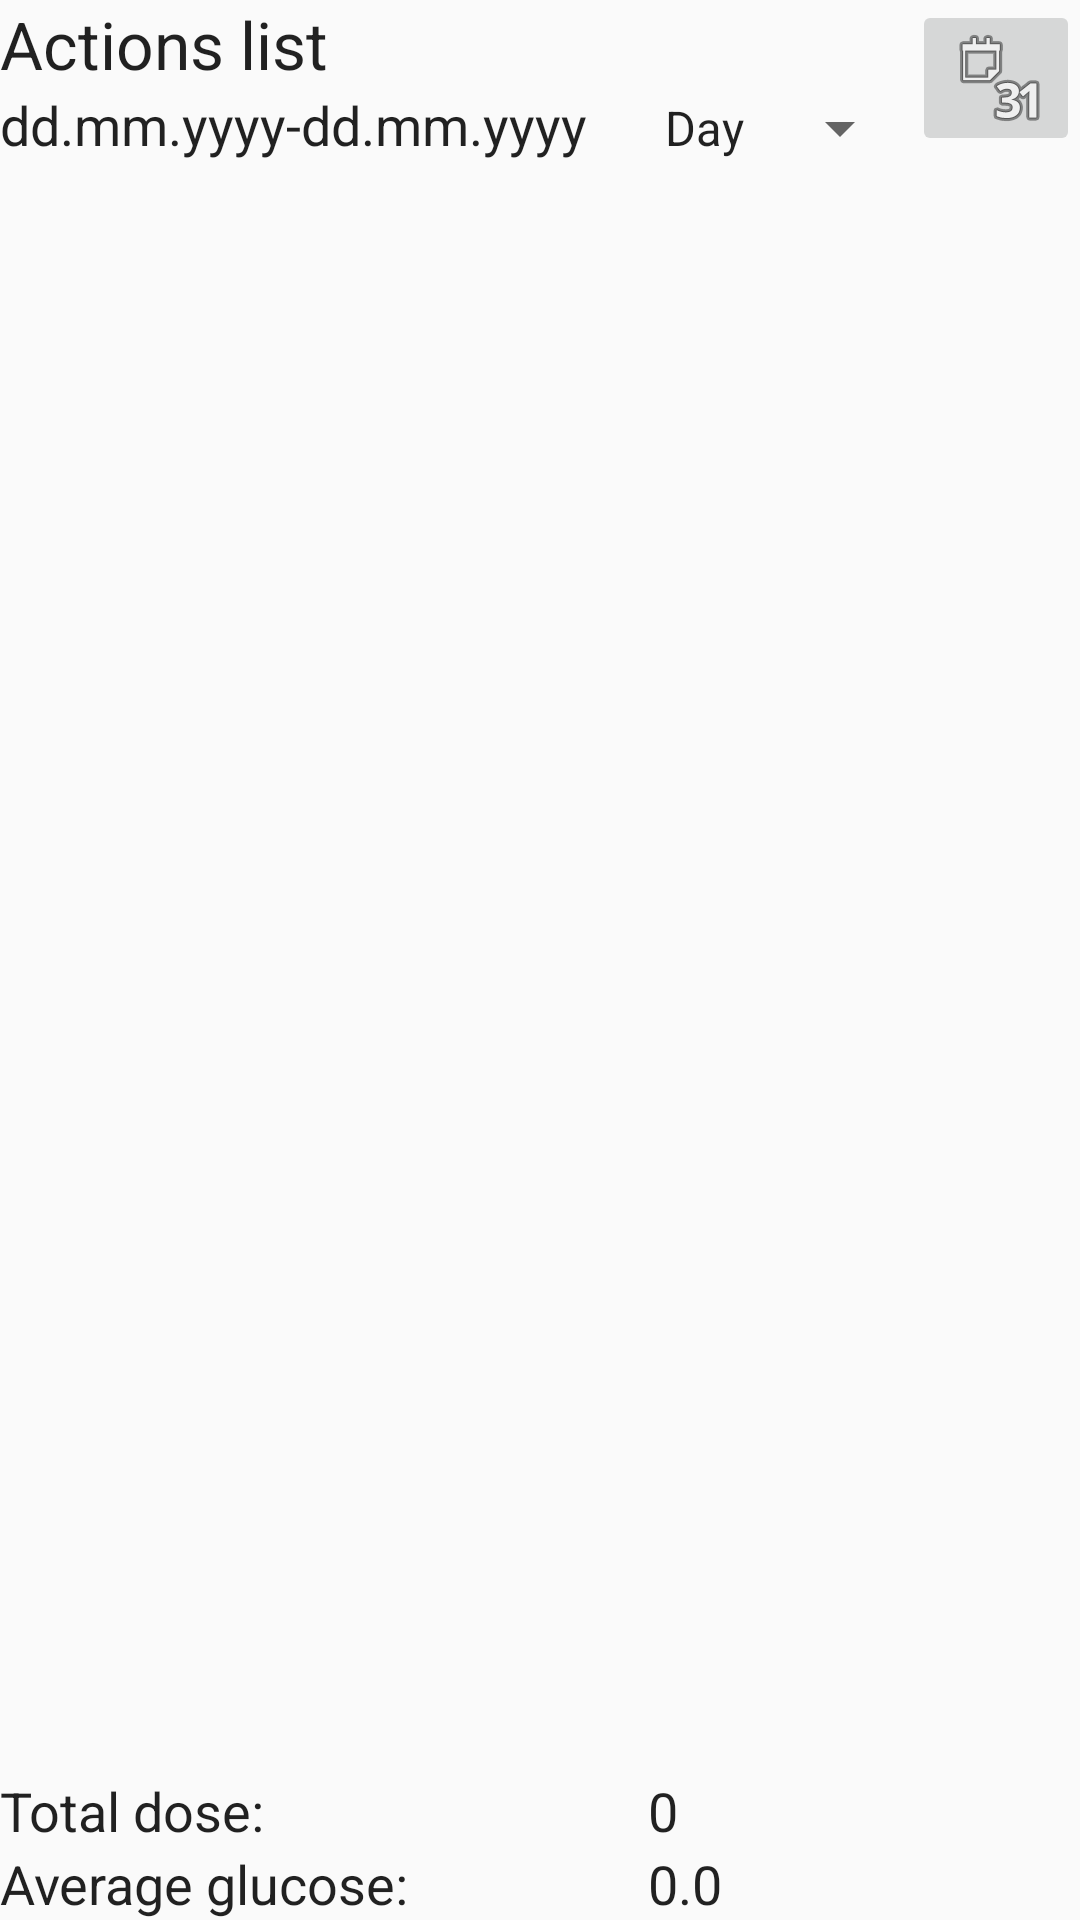

Named icons in this screenshot (1080px x 1920px) and their bounding boxes, region(x1, y1, x2, y2):
month: region(924, 18, 1068, 138)
